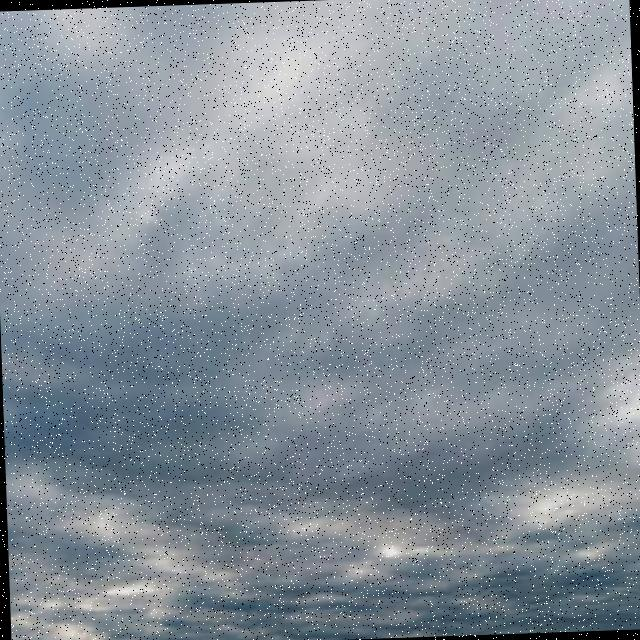As: (1, 43, 640, 632)
